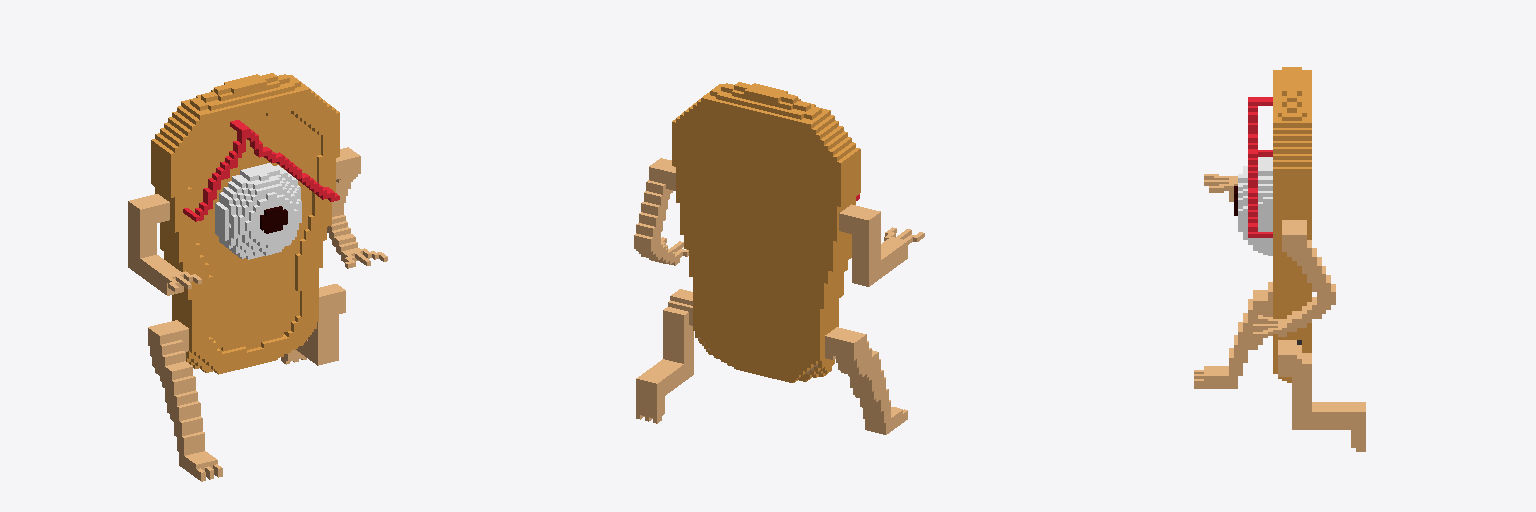
The picture shows the model from 3 angles: view 1: azimuth 30°, elevation 25°; view 2: azimuth 150°, elevation 25°; view 3: azimuth 270°, elevation 25°; orthographic projection.
Visible parts, largest first — view 1: Char_Monster_SandalFace; view 2: Char_Monster_SandalFace; view 3: Char_Monster_SandalFace.
Part boxes in pixels (left/top/right/bottom): Char_Monster_SandalFace: left=128, top=73, right=387, bottom=481; Char_Monster_SandalFace: left=634, top=82, right=924, bottom=434; Char_Monster_SandalFace: left=1194, top=67, right=1365, bottom=451.
Bounding box in the file's own units: 5.6 × 7.7 × 3.5.
1 materials, 1 textured.